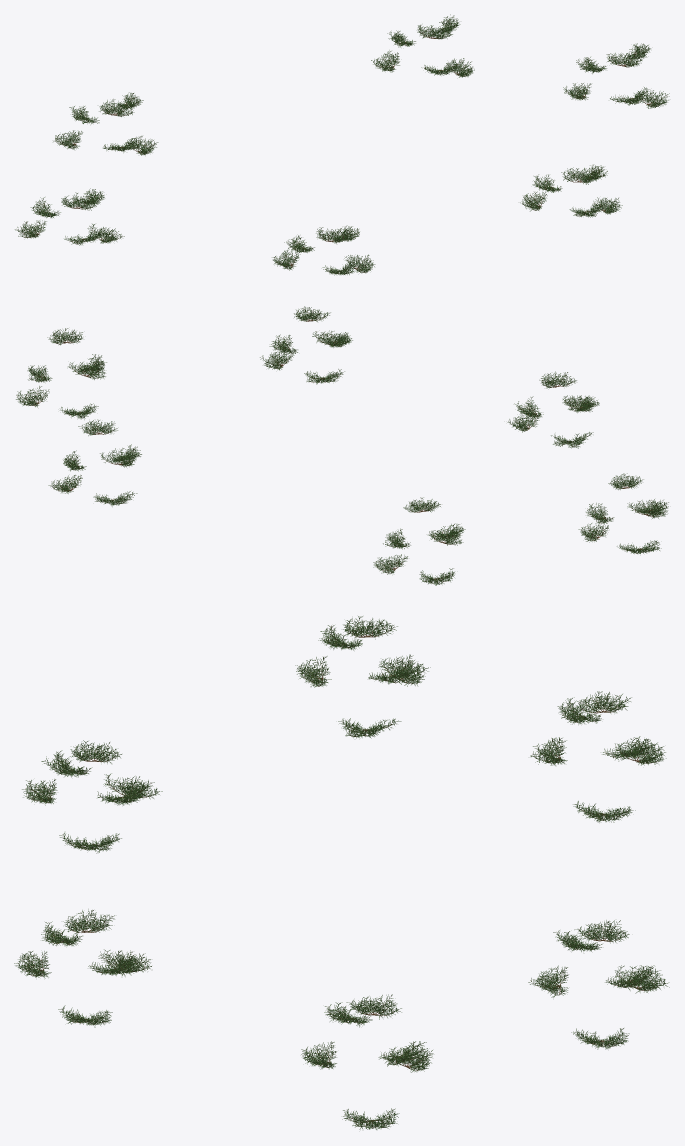
The model's file is pine-crowns-distant.glb.
The picture shows the model from 3 angles, top to bottom: view 1: azimuth 30°, elevation 25°; view 2: azimuth 150°, elevation 25°; view 3: azimuth 270°, elevation 25°; orthographic projection. The views are drawn at different scales.
Visible parts, largest first — view 1: Pine 3 needles, Pine 0 needles, Pine 2 needles, Pine 5 needles, Pine 4 needles, Pine 1 needles; view 2: Pine 3 needles, Pine 0 needles, Pine 2 needles, Pine 1 needles, Pine 4 needles, Pine 5 needles; view 3: Pine 0 needles, Pine 1 needles, Pine 2 needles, Pine 3 needles, Pine 4 needles, Pine 5 needles.
Boxes of the visible parts, x1,y1,x2,y2 form: Pine 3 needles: (563, 43, 669, 108); Pine 0 needles: (53, 92, 158, 155); Pine 2 needles: (15, 188, 124, 245); Pine 5 needles: (520, 164, 622, 217); Pine 4 needles: (272, 225, 375, 275); Pine 1 needles: (371, 14, 474, 77); Pine 3 needles: (16, 328, 106, 419); Pine 0 needles: (373, 497, 465, 585); Pine 2 needles: (578, 473, 668, 553); Pine 1 needles: (48, 419, 141, 506); Pine 4 needles: (507, 371, 599, 448); Pine 5 needles: (260, 306, 352, 384); Pine 0 needles: (530, 691, 666, 822); Pine 1 needles: (528, 920, 669, 1049); Pine 2 needles: (295, 616, 430, 738); Pine 3 needles: (301, 994, 433, 1129); Pine 4 needles: (22, 740, 162, 853); Pine 5 needles: (14, 909, 151, 1027).
Size of the model in its own units: 29.97 by 3.14 by 18.12.
